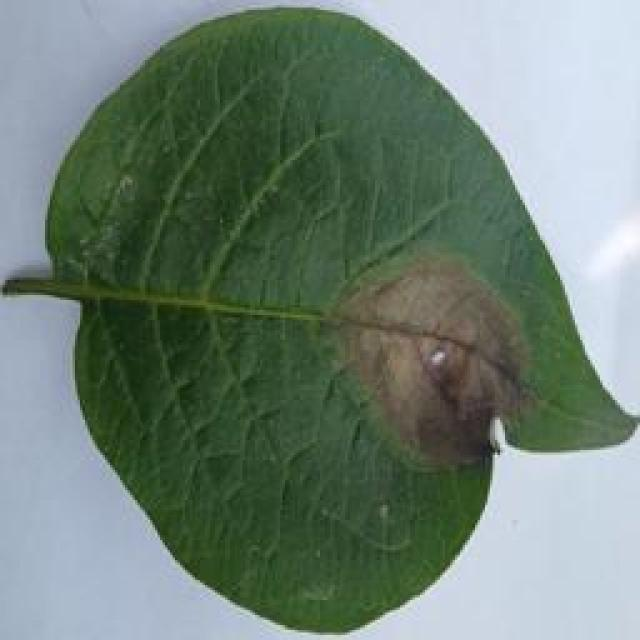Potato_Late_Blight: (7, 8, 628, 636)
